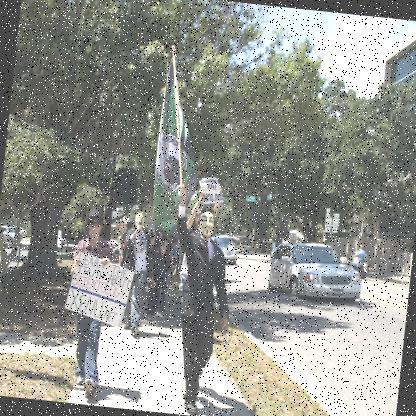Car: (267, 238, 365, 302), (212, 234, 236, 262), (0, 222, 22, 245)
